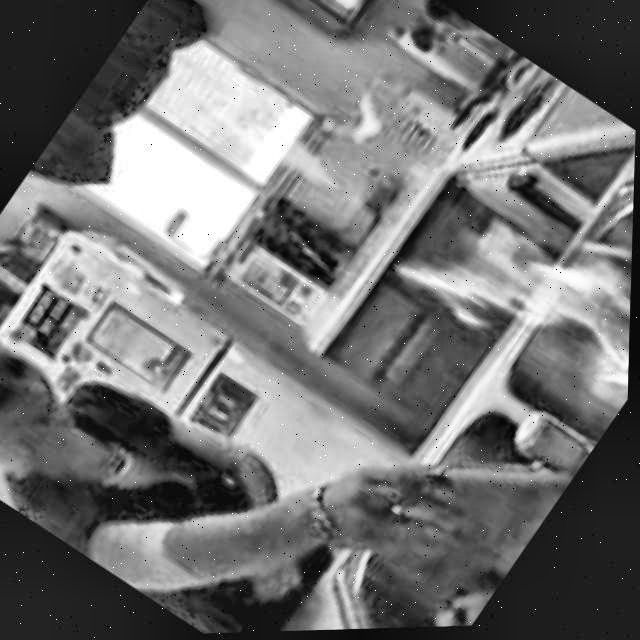Fire: (378, 144, 636, 440), (261, 64, 408, 222)
